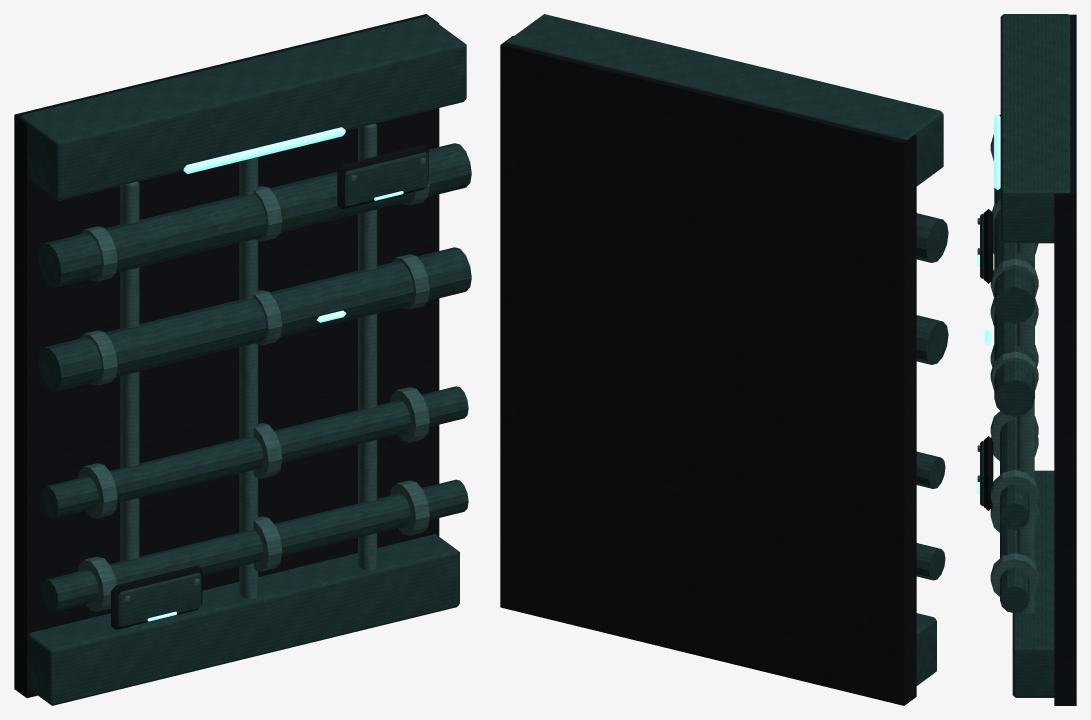
File: abyssal_plant_room.glb
3 renders of one model, left to right at view 1: azimuth 30°, elevation 25°; view 2: azimuth 150°, elevation 25°; view 3: azimuth 270°, elevation 25°, orthographic. The views are drawn at different scales.
Visible parts, largest first — view 1: abyssal_plant_room - abyssal_plant panels, abyssal_plant_room - Recessed iron, abyssal_plant_room - abyssal_plant trim, abyssal_plant_room - abyssal_plant accents; view 2: abyssal_plant_room - Recessed iron, abyssal_plant_room - abyssal_plant panels; view 3: abyssal_plant_room - abyssal_plant panels, abyssal_plant_room - Recessed iron, abyssal_plant_room - abyssal_plant trim, abyssal_plant_room - abyssal_plant accents.
Part boxes in pixels (x1,y1,x2,y2): abyssal_plant_room - abyssal_plant panels: (20, 16, 471, 705); abyssal_plant_room - Recessed iron: (14, 14, 439, 697); abyssal_plant_room - abyssal_plant trim: (77, 123, 429, 628); abyssal_plant_room - abyssal_plant accents: (147, 127, 403, 621); abyssal_plant_room - Recessed iron: (500, 36, 916, 705); abyssal_plant_room - abyssal_plant panels: (507, 14, 948, 685); abyssal_plant_room - abyssal_plant panels: (980, 14, 1070, 697); abyssal_plant_room - Recessed iron: (983, 14, 1076, 705); abyssal_plant_room - abyssal_plant trim: (977, 134, 1038, 613); abyssal_plant_room - abyssal_plant accents: (977, 114, 1000, 493).
Size of the model in its own units: 6.01 by 8.03 by 1.41.
4 materials, 3 textured.
